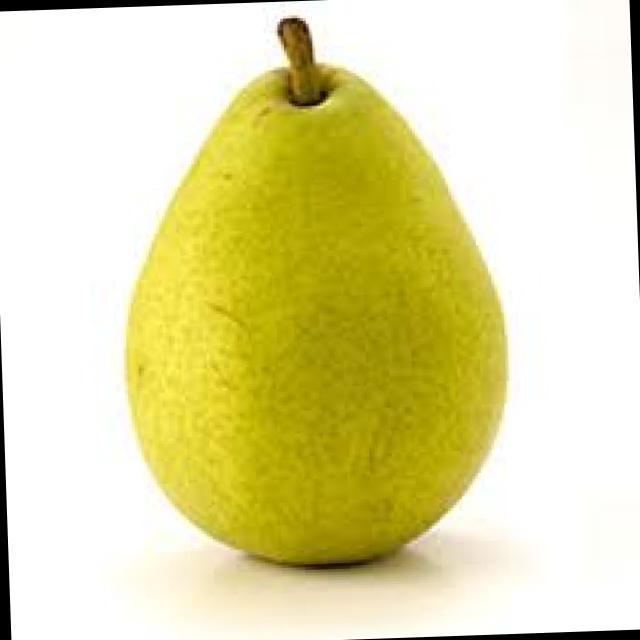Pear: (94, 0, 547, 593)
